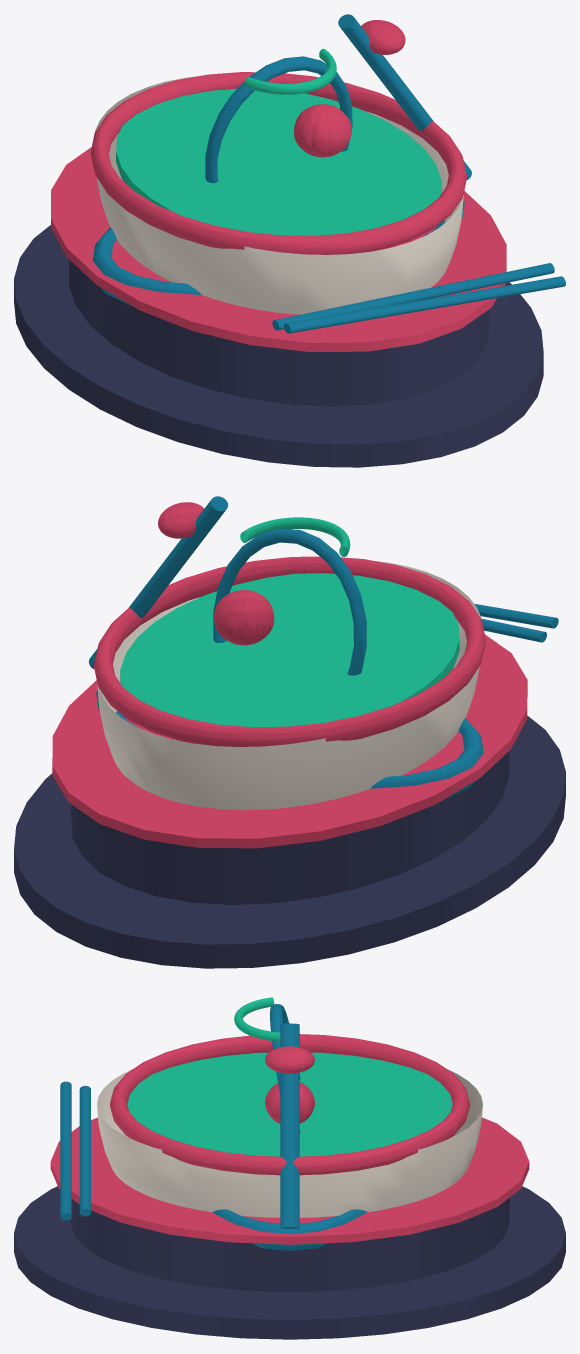
Rendered from 0318_揭秘食物图鉴_小麦.glb.
The picture shows the model from 3 angles, top to bottom: view 1: azimuth 30°, elevation 25°; view 2: azimuth 150°, elevation 25°; view 3: azimuth 270°, elevation 25°; orthographic projection. The views are drawn at different scales.
Visible parts, largest first — view 1: card_0318; view 2: card_0318; view 3: card_0318.
Part boxes in pixels (x1=…): card_0318: x1=14, y1=14, x2=565, y2=467; card_0318: x1=14, y1=496, x2=565, y2=968; card_0318: x1=14, y1=997, x2=565, y2=1339.
Bounding box in the file's own units: 1.4 × 1 × 1.87.
